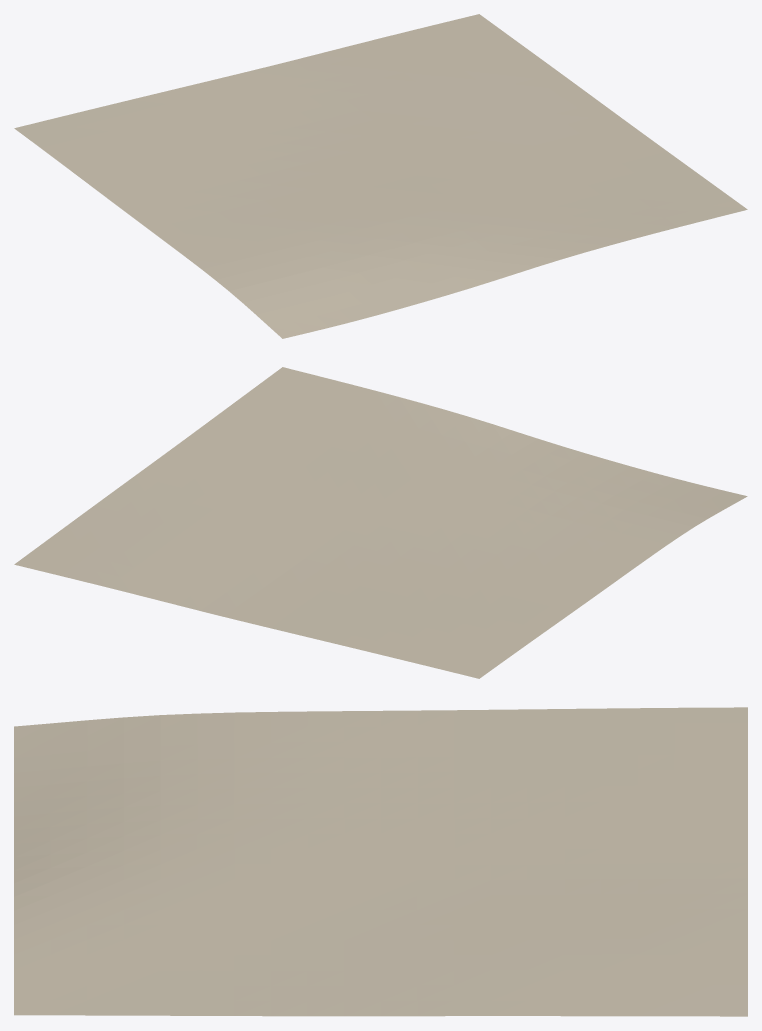
File: bolak_-11_-13.glb
3 views of the same model, one above another, from view 1: azimuth 30°, elevation 25°; view 2: azimuth 150°, elevation 25°; view 3: azimuth 270°, elevation 25° (orthographic). The views are drawn at different scales.
Parts seen in each view (by area): view 1: Yer_Tuproq-col; view 2: Yer_Tuproq-col; view 3: Yer_Tuproq-col.
Part boxes in pixels (box(x1,y1,x2,y2)): Yer_Tuproq-col: box(14, 14, 747, 338); Yer_Tuproq-col: box(14, 367, 747, 678); Yer_Tuproq-col: box(14, 707, 747, 1016).
Size of the model in its own units: 400 by 13.07 by 400.
